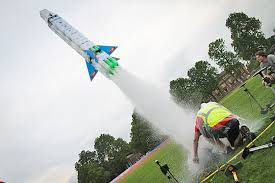ten_lua: (38, 7, 125, 83)
